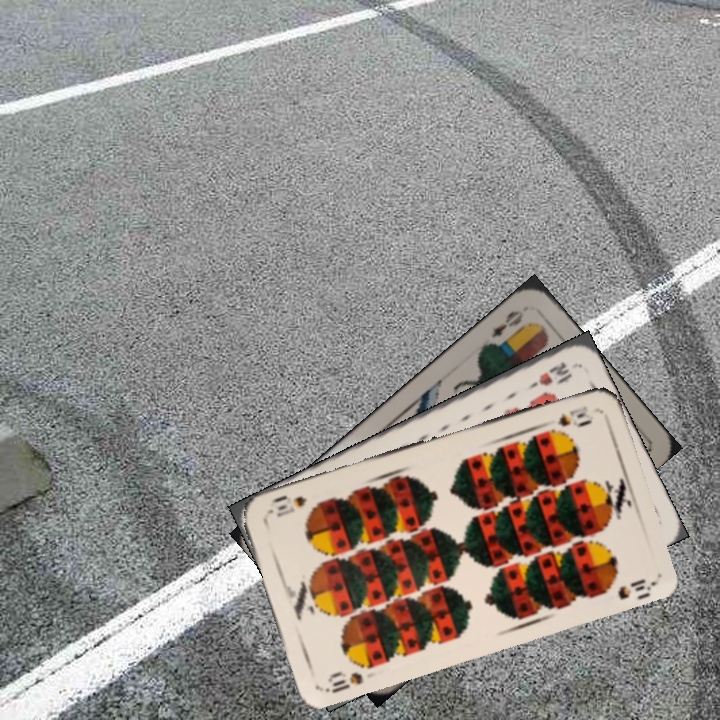EO: (486, 305, 526, 341)
H10: (525, 357, 574, 392)
S10: (321, 667, 366, 696), (553, 401, 590, 429)
